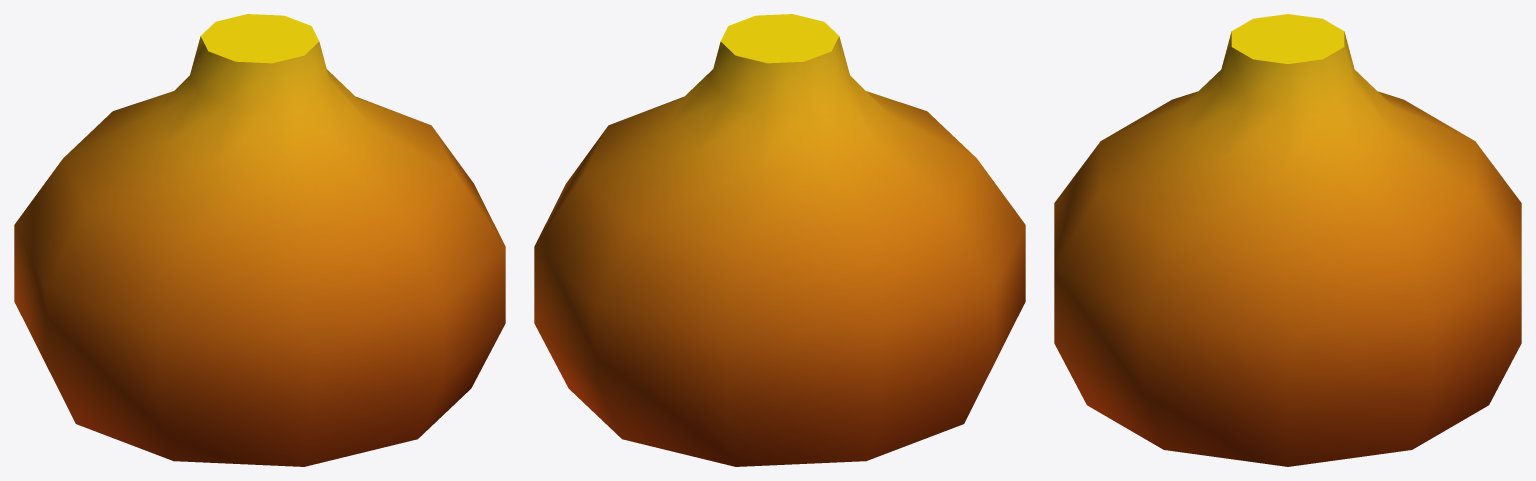
Rendered from Potion_D_M_Liquid.fbx.
3 views of the same model, side by side, from view 1: azimuth 30°, elevation 25°; view 2: azimuth 150°, elevation 25°; view 3: azimuth 270°, elevation 25° (orthographic).
Parts seen in each view (by area): view 1: Potion_D_M_Liquid; view 2: Potion_D_M_Liquid; view 3: Potion_D_M_Liquid.
Boxes of the visible parts, box(x1,y1,x2,y2) form: Potion_D_M_Liquid: box(14, 14, 505, 466); Potion_D_M_Liquid: box(534, 14, 1025, 466); Potion_D_M_Liquid: box(1054, 14, 1521, 466).
Size of the model in its own units: 52.57 by 39.96 by 50.
